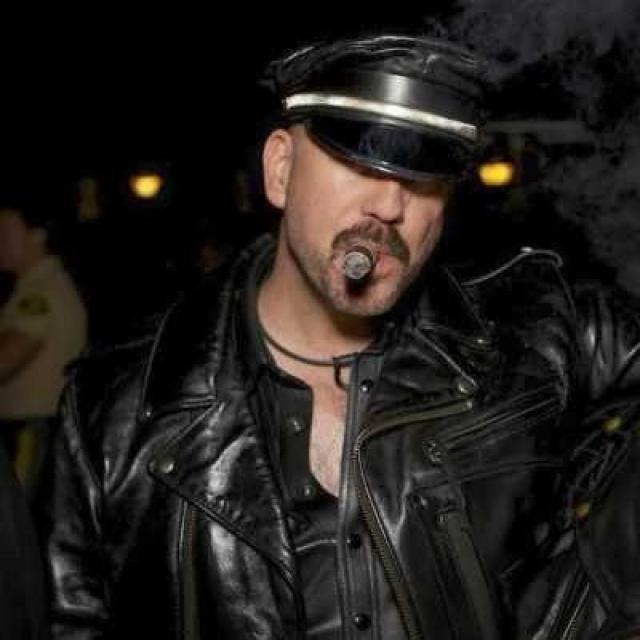Smooking: (338, 243, 378, 290)
